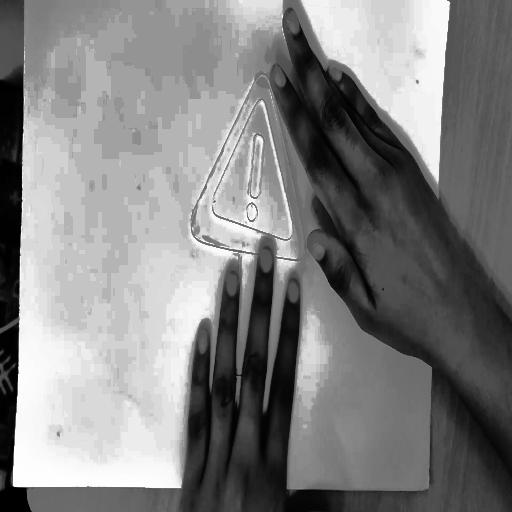bottom_left: (9, 476, 16, 496)
bottom_right: (425, 479, 432, 496)
signboard: (167, 58, 350, 421)
